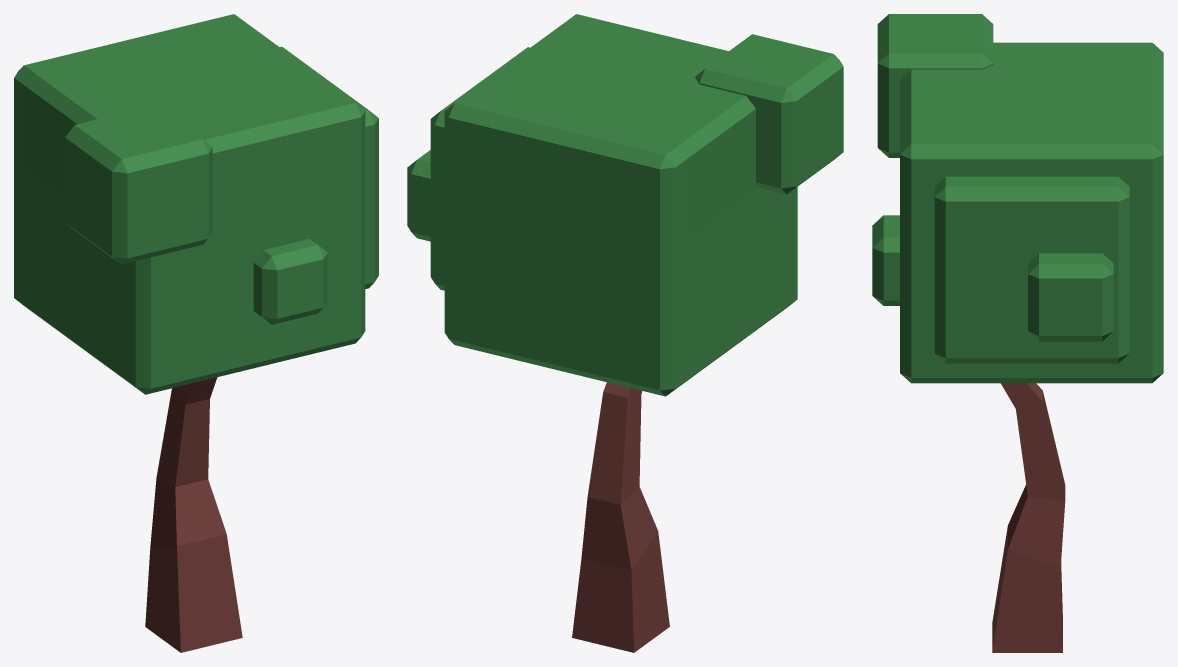
File: TreePackage.fbx_Tree_007.fbx
3 renders of one model, left to right at view 1: azimuth 30°, elevation 25°; view 2: azimuth 150°, elevation 25°; view 3: azimuth 270°, elevation 25°, orthographic.
Visible parts, largest first — view 1: Cube.008, Circle.001; view 2: Cube.008, Circle.001; view 3: Cube.008, Circle.001.
Boxes of the visible parts, box(x1,y1,x2,y2) form: Cube.008: box(14, 14, 378, 394); Circle.001: box(145, 377, 242, 652); Cube.008: box(407, 14, 843, 396); Circle.001: box(572, 382, 669, 652); Cube.008: box(872, 14, 1163, 383); Circle.001: box(992, 383, 1065, 652).
Size of the model in its own units: 414 by 677 by 322.
